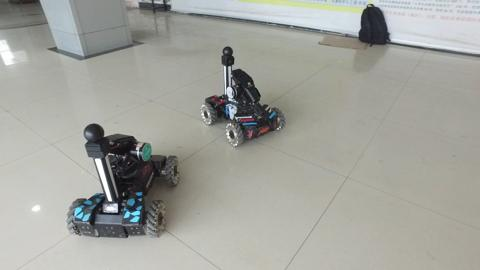chariot: (62, 123, 180, 239), (199, 40, 287, 153)
